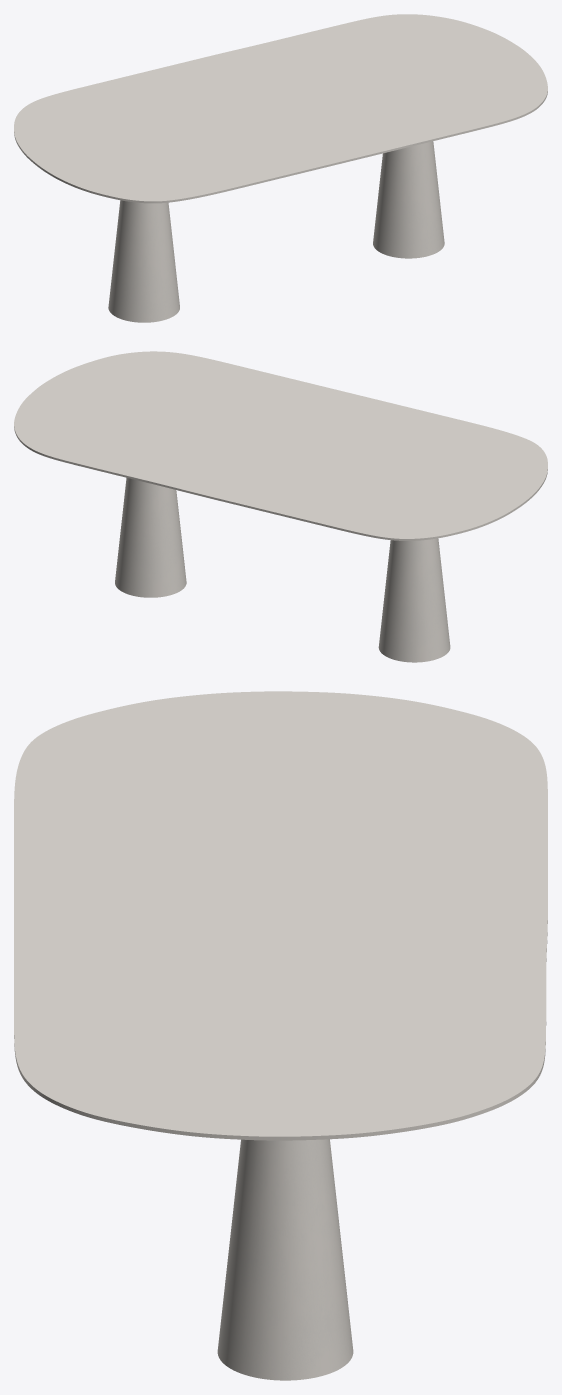
Rendered from purewhite_oval_facet_pebble.glb.
3 renders of one model, top to bottom at view 1: azimuth 30°, elevation 25°; view 2: azimuth 150°, elevation 25°; view 3: azimuth 270°, elevation 25°, orthographic. The views are drawn at different scales.
Parts seen in each view (by area): view 1: facet_oval, pebble; view 2: facet_oval, pebble; view 3: facet_oval, pebble.
Part boxes in pixels (x1,y1,x2,y2): facet_oval: (14,14,547,203); pebble: (108,141,444,322); facet_oval: (14,351,547,540); pebble: (115,477,450,662); facet_oval: (14,691,547,1140); pebble: (217,1139,353,1380).
Bounding box in the file's own units: 7.5 × 2.5 × 3.8.
Materials: 1 (1 with a texture image).
